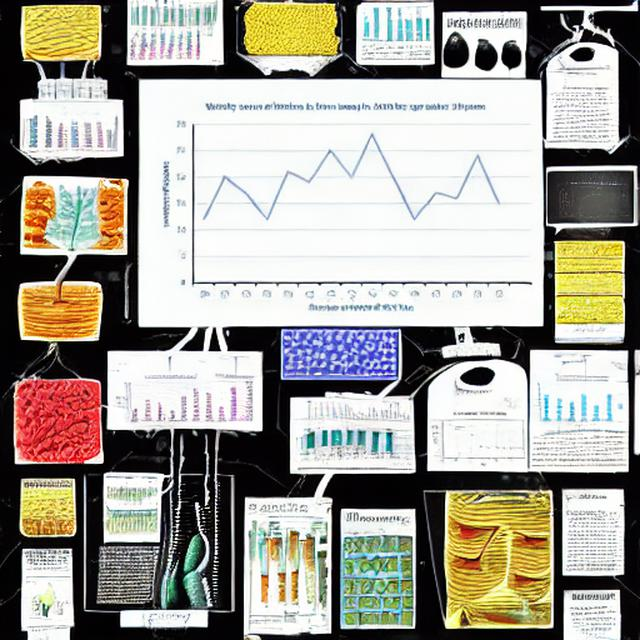Graph: (152, 96, 540, 324), (431, 411, 527, 469), (112, 375, 215, 428), (530, 378, 615, 428), (560, 180, 634, 223), (327, 396, 382, 428)
